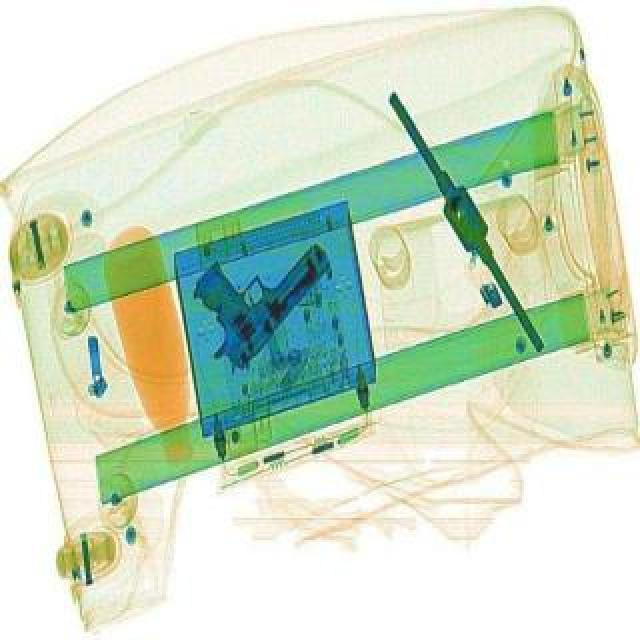gun: (162, 204, 342, 378)
